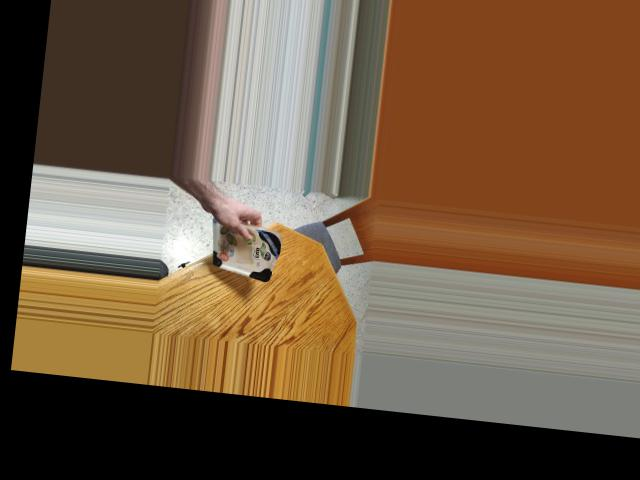cheese: (199, 219, 287, 277)
